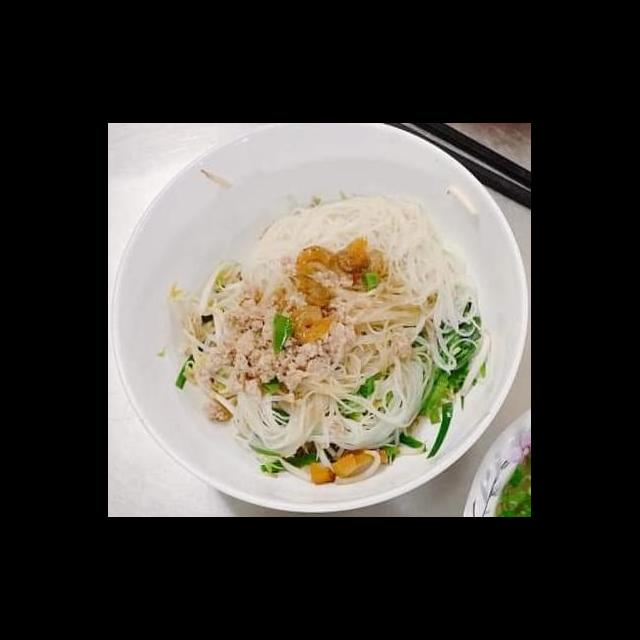hu tieu: (160, 179, 494, 492)
thit bam: (194, 266, 360, 425)
